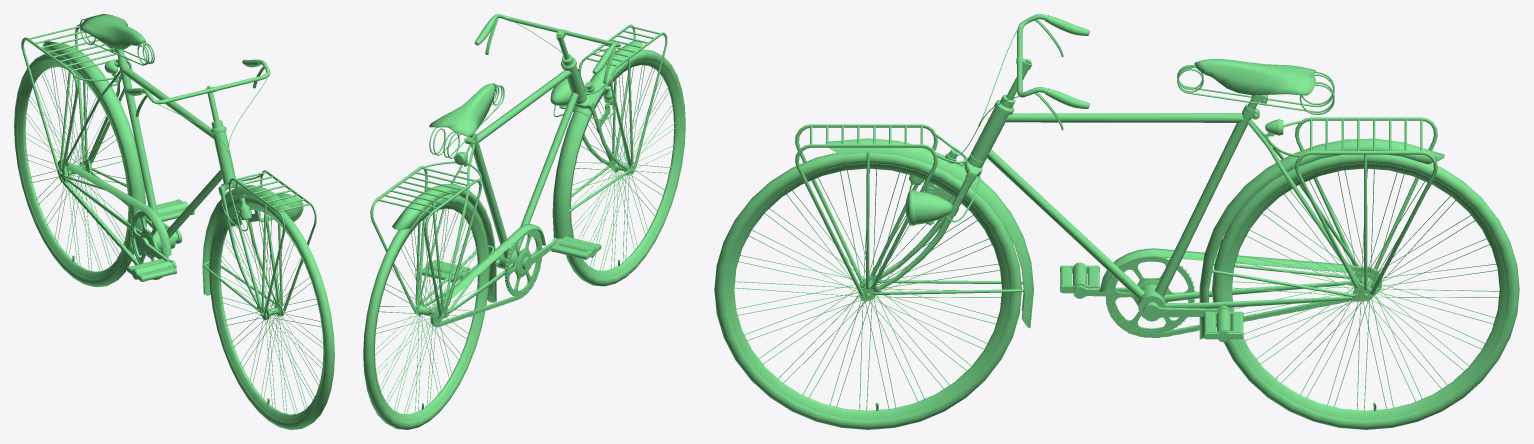
File: Bike.fbx
The picture shows the model from 3 angles, left to right: view 1: azimuth 30°, elevation 25°; view 2: azimuth 150°, elevation 25°; view 3: azimuth 270°, elevation 25°; orthographic projection. The views are drawn at different scales.
Parts seen in each view (by area): view 1: Bike_1, Bike_1_1, Bike_1_2; view 2: Bike_1, Bike_1_1, Bike_1_2; view 3: Bike_1, Bike_1_1, Bike_1_2.
Boxes of the visible parts, left/top/right/bottom form: Bike_1: left=14, top=14, right=316, bottom=320; Bike_1_1: left=209, top=195, right=334, bottom=429; Bike_1_2: left=127, top=199, right=194, bottom=281; Bike_1: left=363, top=14, right=667, bottom=429; Bike_1_1: left=566, top=49, right=685, bottom=286; Bike_1_2: left=422, top=236, right=601, bottom=282; Bike_1: left=795, top=14, right=1519, bottom=429; Bike_1_1: left=714, top=152, right=1021, bottom=429; Bike_1_2: left=1060, top=262, right=1243, bottom=342.
Size of the model in its own units: 43.63 by 99.78 by 192.
